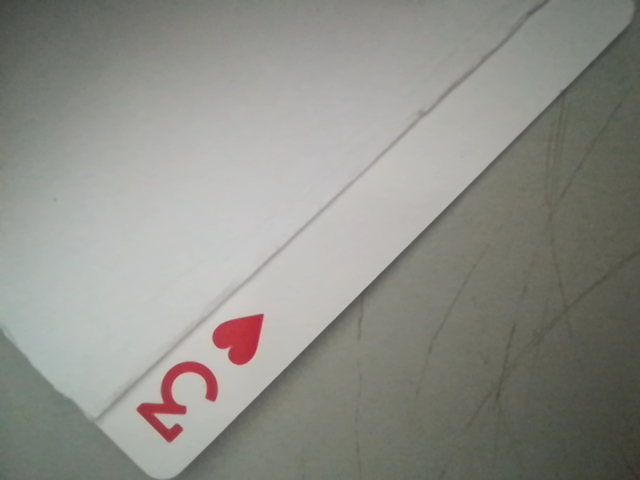hx 3: (129, 305, 273, 452)
